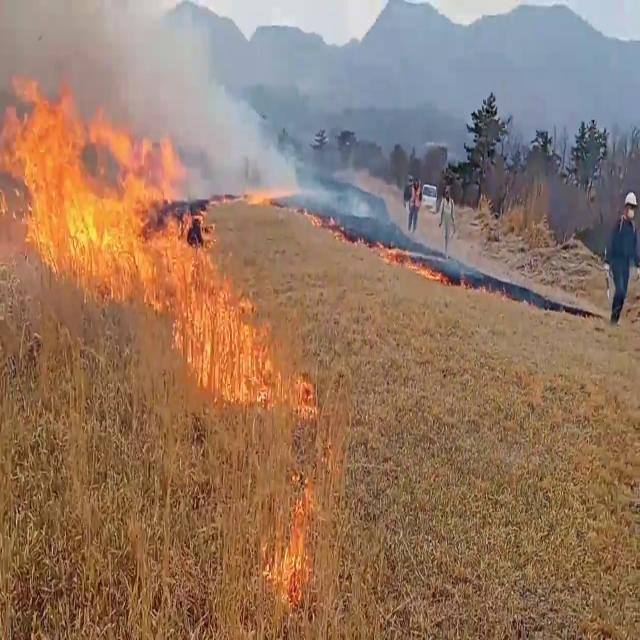Fire: (0, 73, 178, 287), (162, 204, 310, 420), (268, 454, 321, 596), (240, 178, 284, 210)
Smoke: (58, 0, 306, 210)
